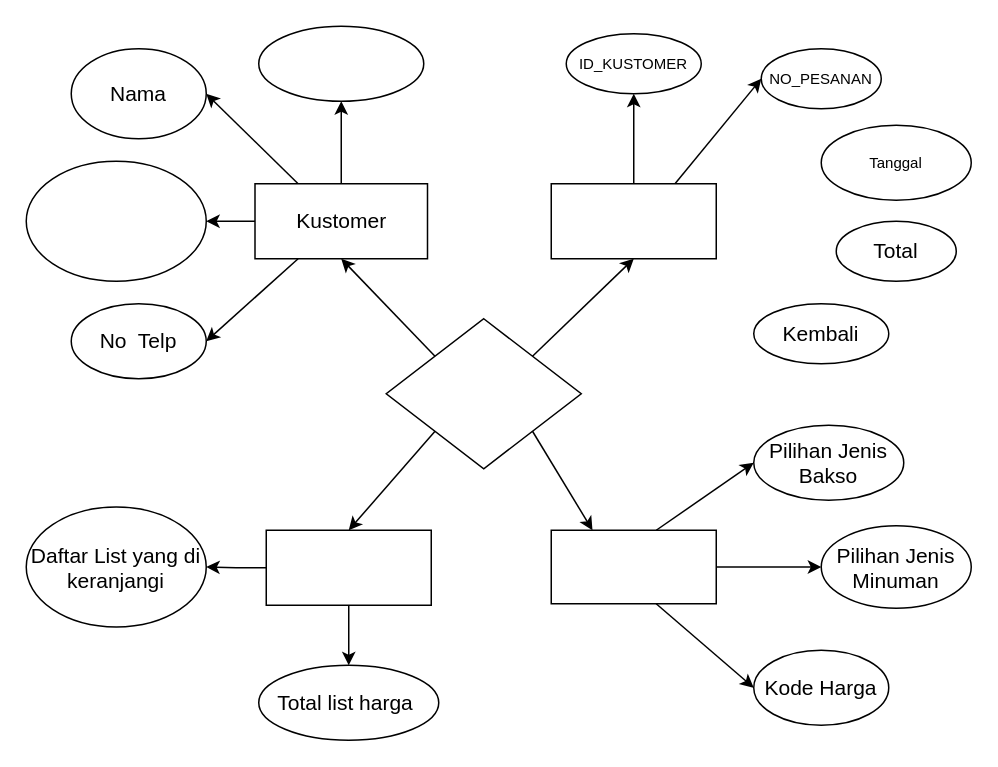
This 998x767 diagram has some shape labels left out. Here are the shapes that lost their labels. From the top down, the centre of each, then its label:
At point 340,63: "Alamat".
At point 115,220: "Login".
At point 633,220: "Pemesanan".
At point 483,393: "Sistem".
At point 348,567: "Keranjang".
At point 633,566: "Menu".
